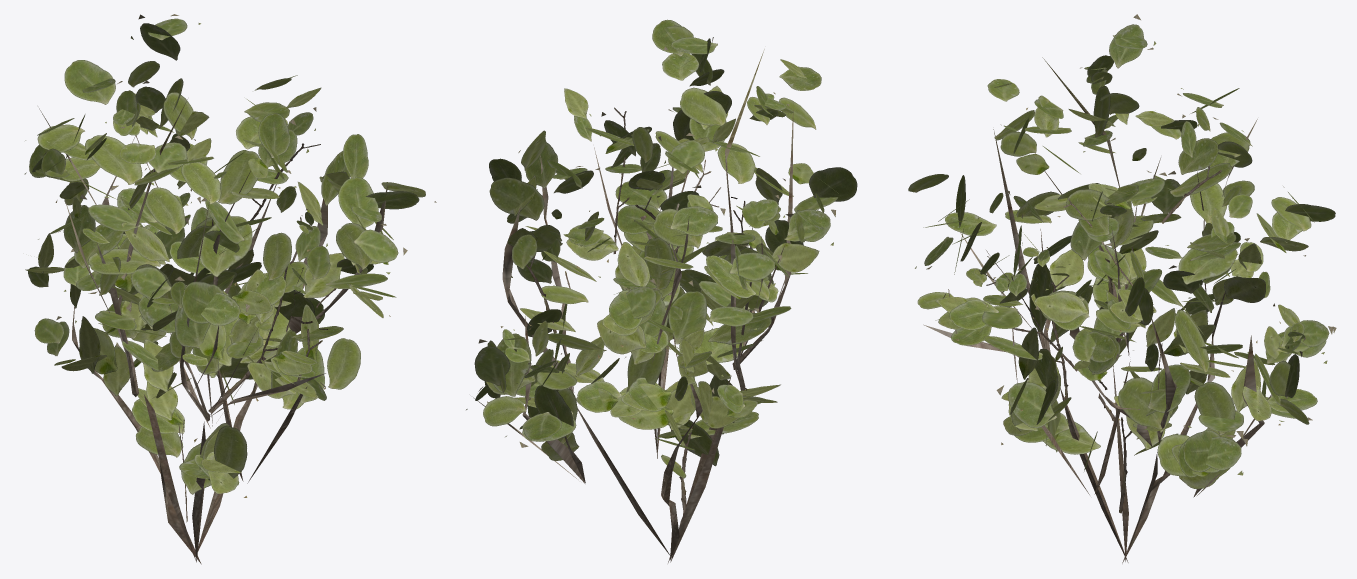
Rendered from bush_green_d.glb.
The picture shows the model from 3 angles, left to right: view 1: azimuth 30°, elevation 25°; view 2: azimuth 150°, elevation 25°; view 3: azimuth 270°, elevation 25°; orthographic projection. The views are drawn at different scales.
Visible parts, largest first — view 1: bush_green_d; view 2: bush_green_d; view 3: bush_green_d.
Boxes of the visible parts, x1=… form: bush_green_d: x1=24, y1=14, x2=436, y2=564; bush_green_d: x1=466, y1=19, x2=857, y2=562; bush_green_d: x1=908, y1=14, x2=1336, y2=563.
Bounding box in the file's own units: 0.8724 × 1.38 × 1.06.
2 materials, 2 textured.
